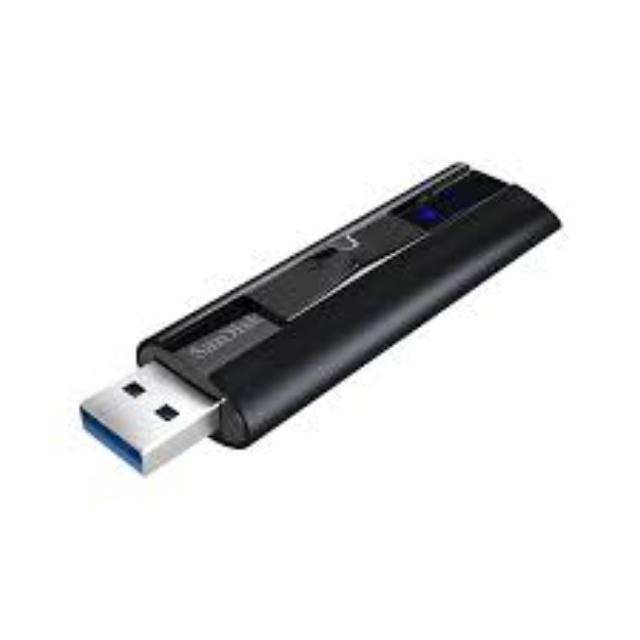USB-Flash-Drive: (79, 165, 563, 478)
